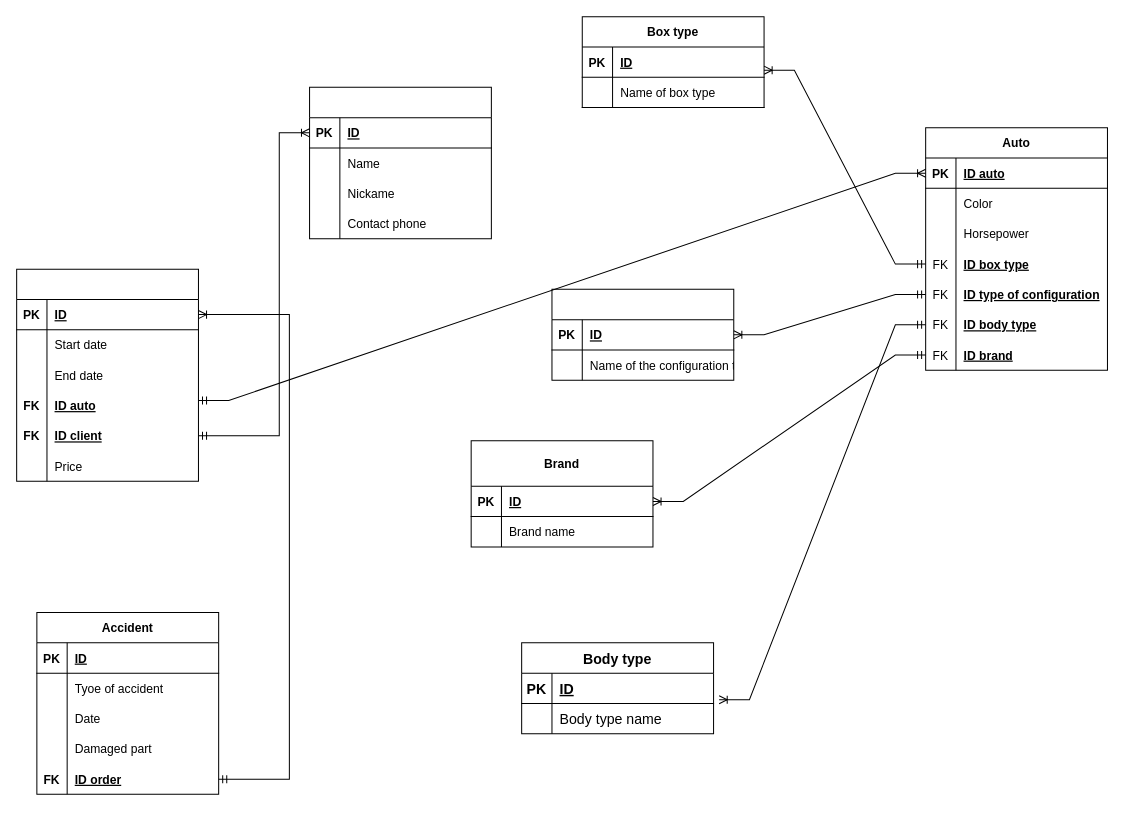
Some shapes in this 1124 by 831 pixel diagram are drawn without their labels. The box of each missing label's shape, as (x1, y1, x2, y2) in pixels:
Client: (309, 86, 491, 239)
Order: (16, 268, 198, 481)
Type of configuration: (551, 288, 734, 380)
